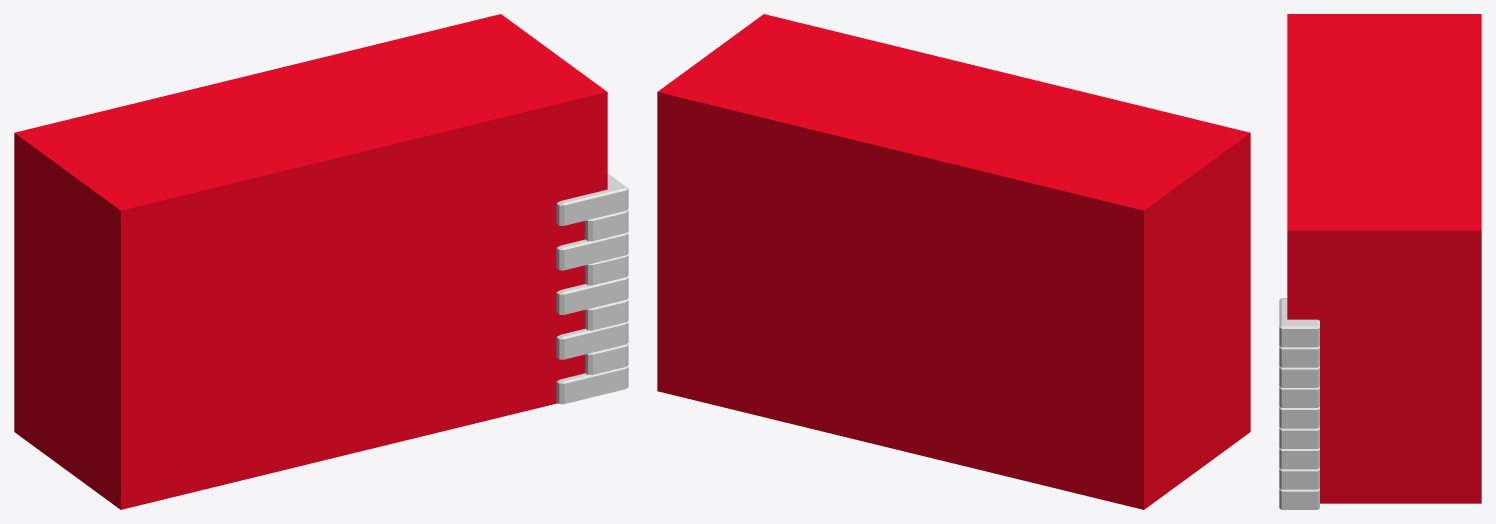
File: houseleft.fbx
3 renders of one model, left to right at view 1: azimuth 30°, elevation 25°; view 2: azimuth 150°, elevation 25°; view 3: azimuth 270°, elevation 25°, orthographic. The views are drawn at different scales.
Parts seen in each view (by area): view 1: Cube.006, Cube.008, Cube.004, Cube, Cube.003, Cube.011, Cube.002, Cube.010, Cube.001, Cube.005; view 2: Cube.006; view 3: Cube.006, Cube.008, Cube.002, Cube.004, Cube, Cube.001, Cube.003, Cube.010, Cube.011, Cube.005.
Part boxes in pixels (bbox=[...]): Cube.006: bbox=[14, 14, 607, 509]; Cube.008: bbox=[556, 174, 628, 225]; Cube.004: bbox=[556, 276, 628, 314]; Cube: bbox=[556, 366, 628, 404]; Cube.003: bbox=[556, 321, 628, 359]; Cube.011: bbox=[556, 232, 628, 270]; Cube.002: bbox=[585, 299, 628, 330]; Cube.010: bbox=[585, 210, 628, 241]; Cube.001: bbox=[585, 344, 628, 374]; Cube.005: bbox=[585, 254, 628, 285]; Cube.006: bbox=[657, 14, 1250, 509]; Cube.006: bbox=[1287, 14, 1481, 503]; Cube.008: bbox=[1279, 298, 1319, 347]; Cube.002: bbox=[1279, 427, 1319, 448]; Cube.004: bbox=[1279, 406, 1319, 428]; Cube: bbox=[1279, 488, 1319, 509]; Cube.001: bbox=[1279, 468, 1319, 489]; Cube.003: bbox=[1279, 447, 1319, 469]; Cube.010: bbox=[1279, 346, 1319, 367]; Cube.011: bbox=[1279, 366, 1319, 387]; Cube.005: bbox=[1279, 386, 1319, 407].
Bounding box in the file's own units: 534 × 302 × 203.
